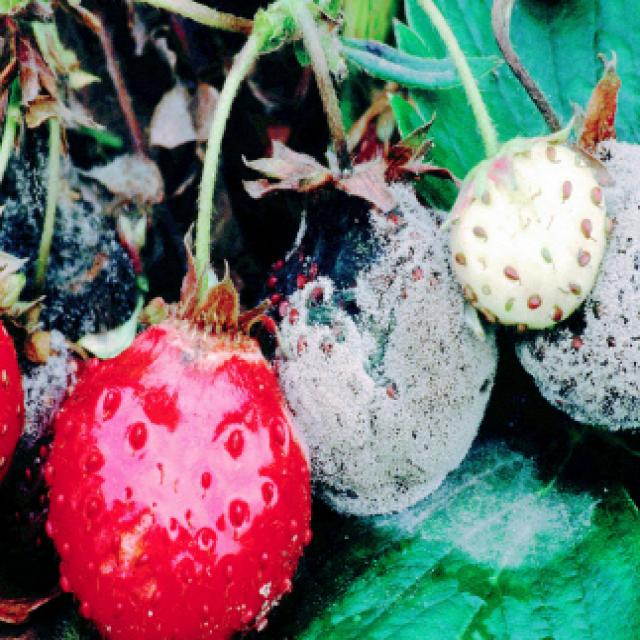Gray Mold: (243, 83, 499, 518), (512, 53, 640, 430)
